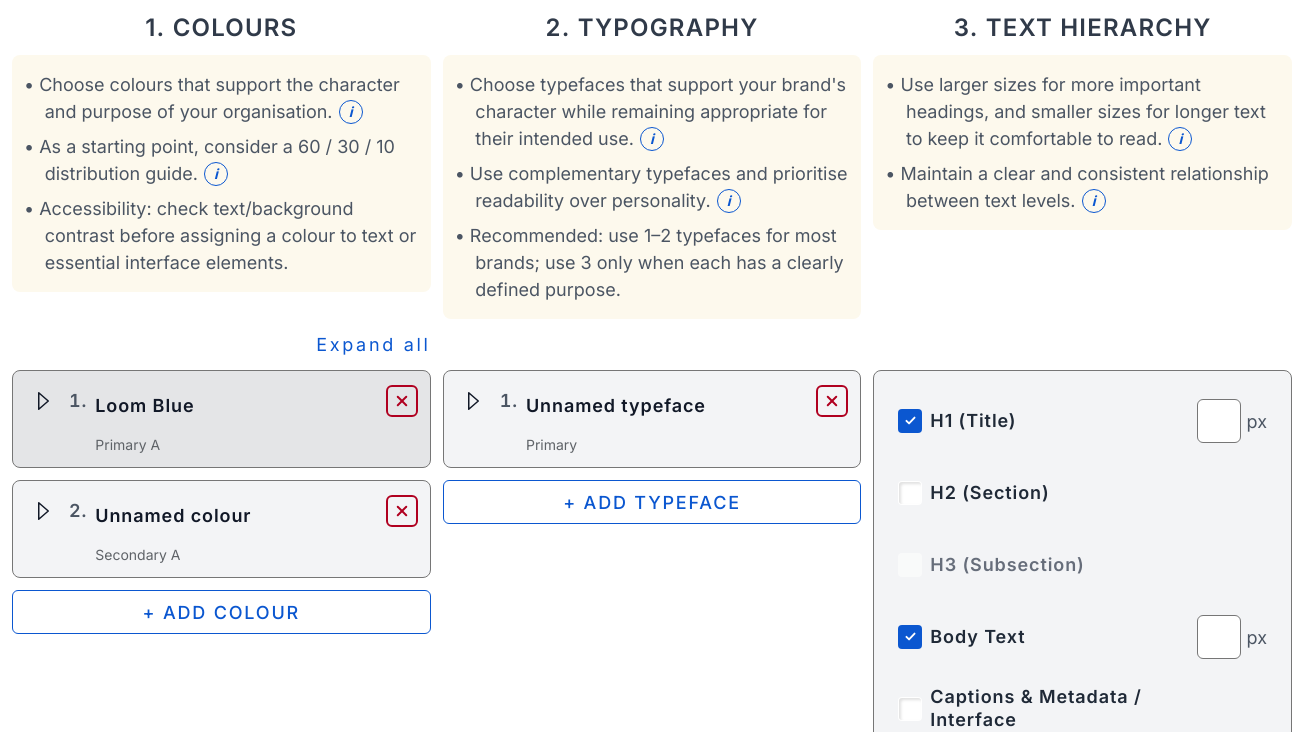
Test: BrandStyleEditor Text Hierarchy › keeps a size within the range its "i" states when the box is left, quietly
This screenshot has width=1292, height=732.
Type "9" into the field named "H1 (Title) size in pixels" at (1218, 421), box [1196,399,1240,443]
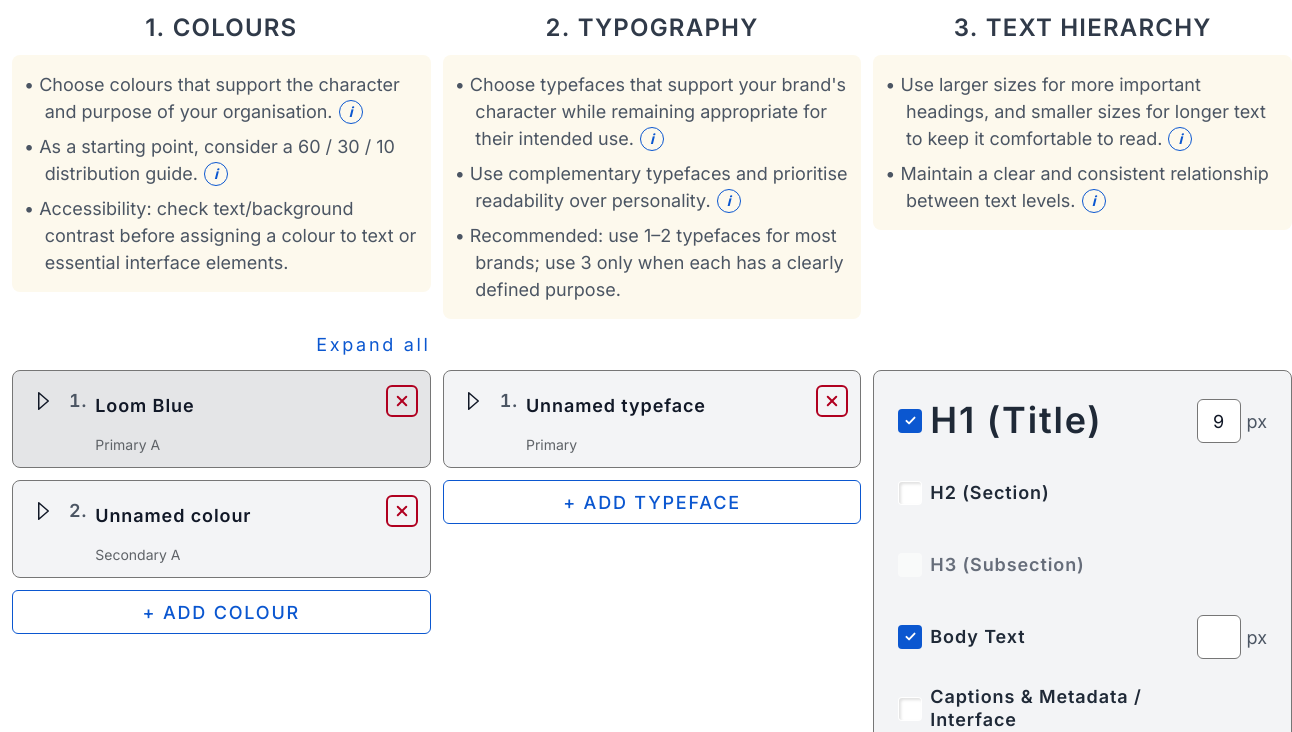
Replace the text in the field named "H1 (Title) size in pixels" with "90" at (1218, 421), box [1196,399,1240,443]
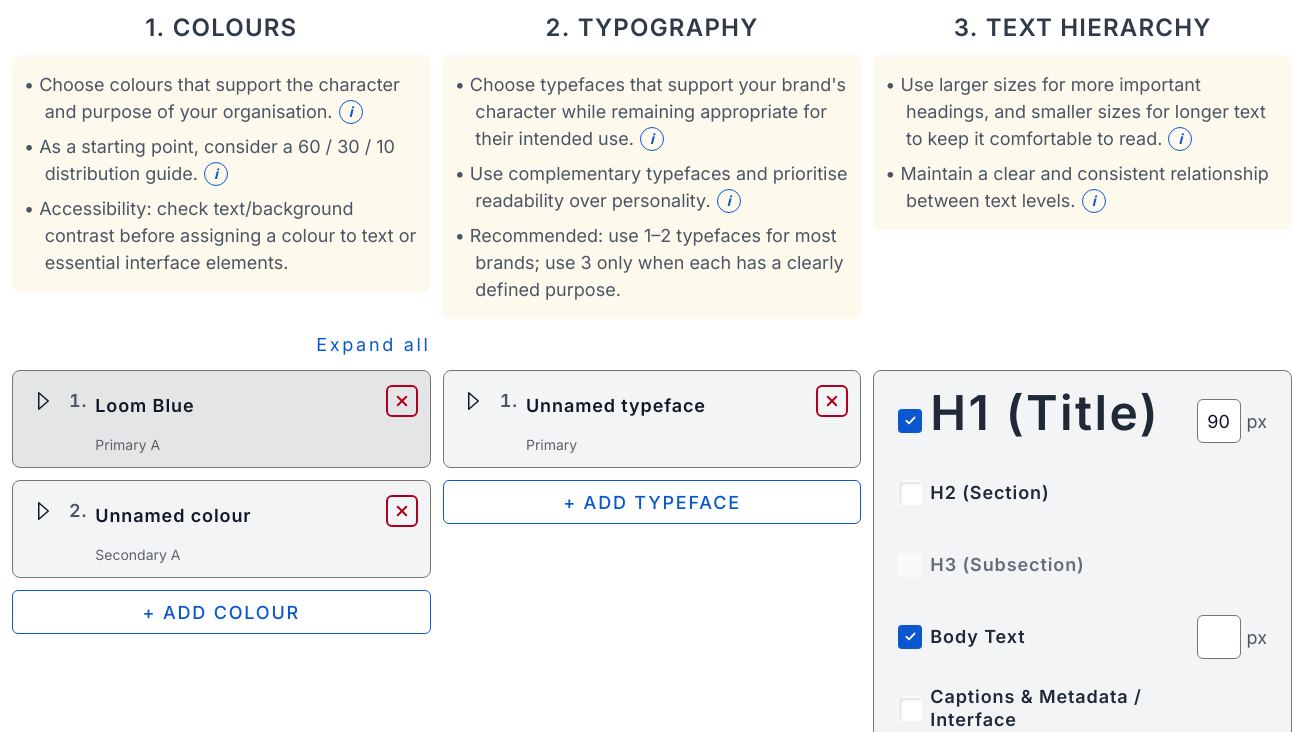
Leave the field named "H1 (Title) size in pixels", box [1196,399,1240,443]
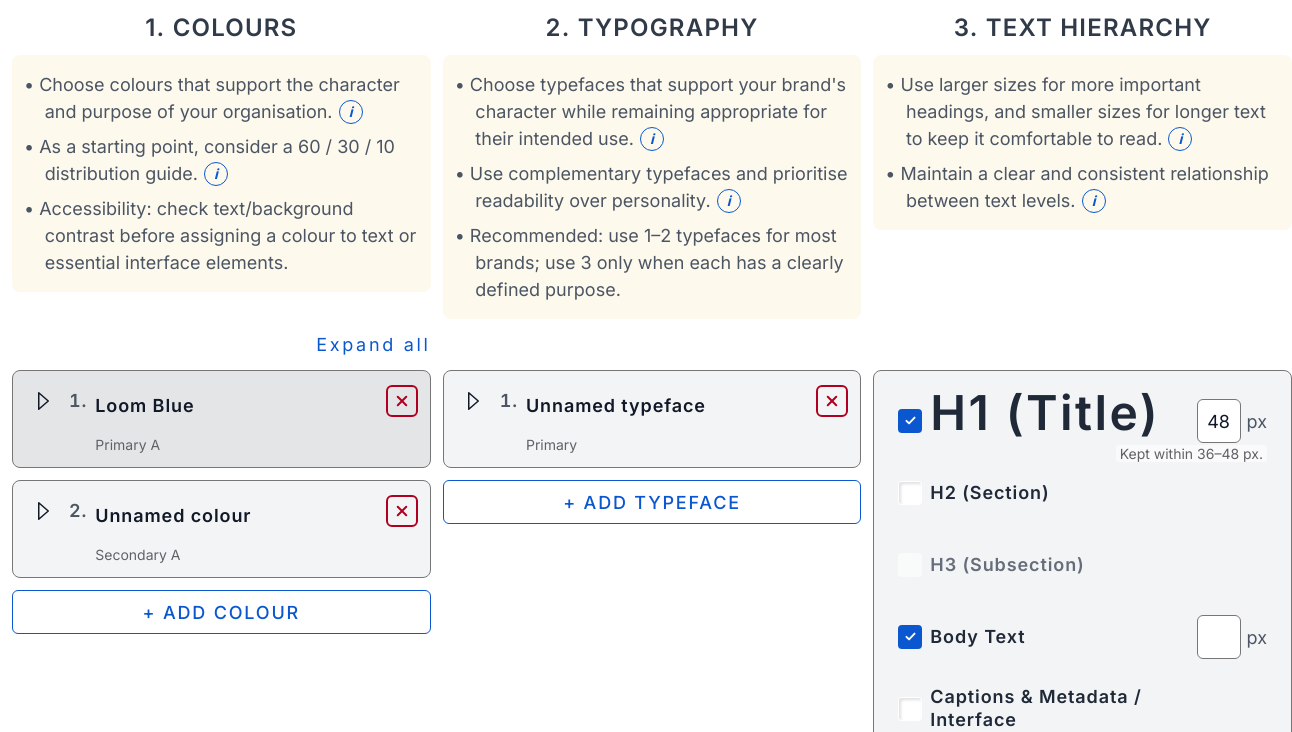
Expected: the field named "H1 (Title) size in pixels" holds "48"
Expected: the message reads "Kept within 36–48 px.", [1120,445,1263,462]
Replace the text in the field named "H1 (Title) size in pixels" with "1" at (1218, 421), box [1196,399,1240,443]
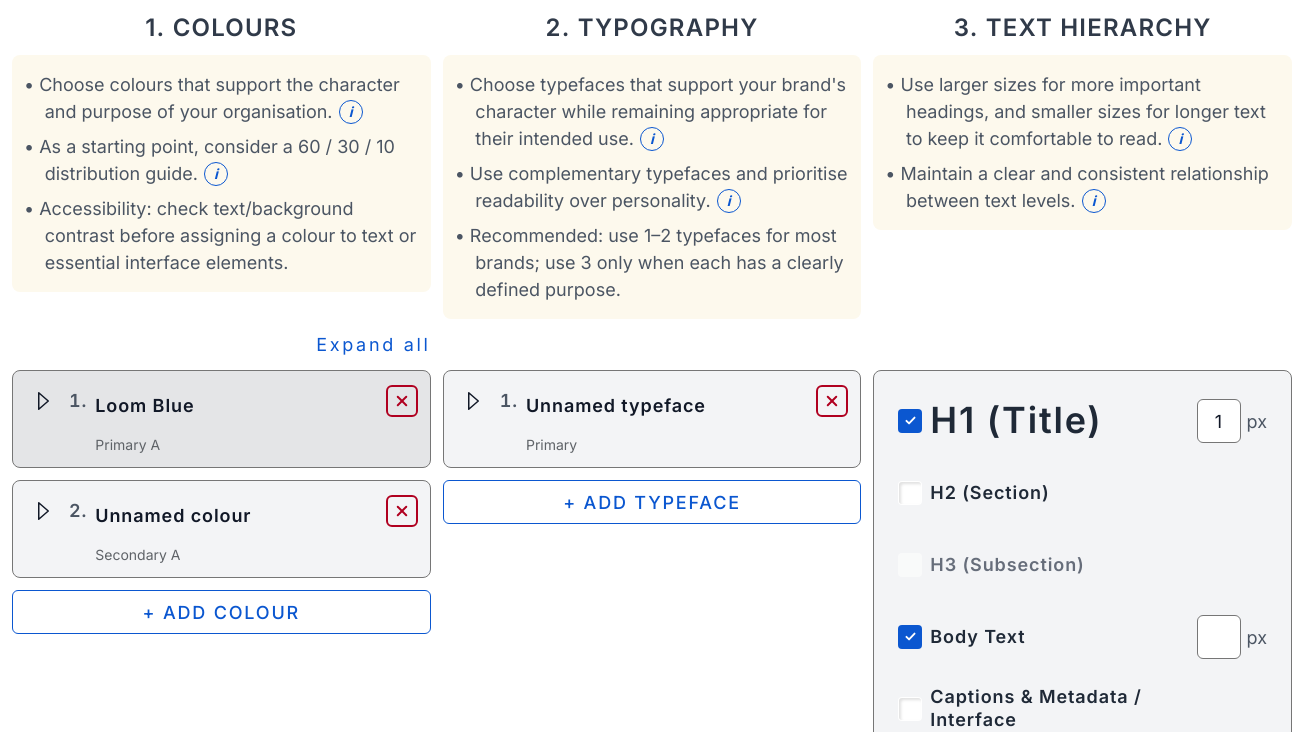
Replace the text in the field named "H1 (Title) size in pixels" with "12" at (1218, 421), box [1196,399,1240,443]
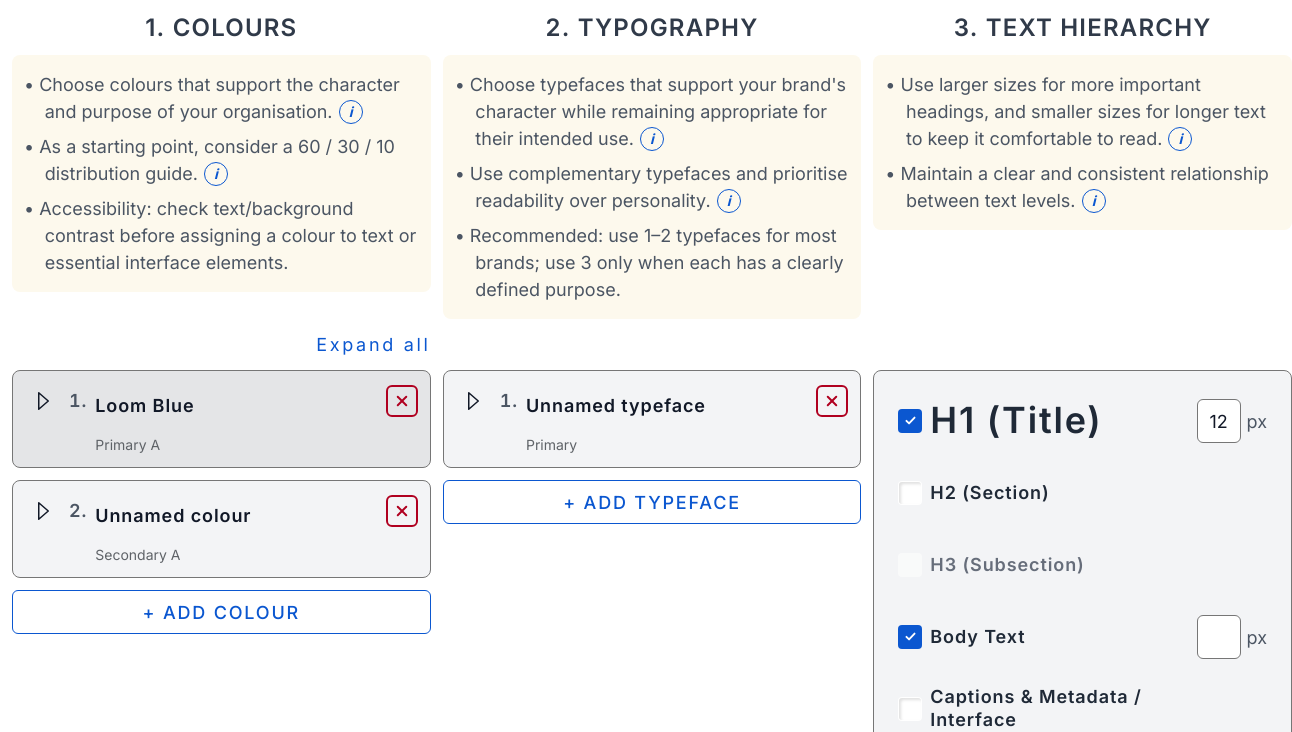
Leave the field named "H1 (Title) size in pixels", box [1196,399,1240,443]
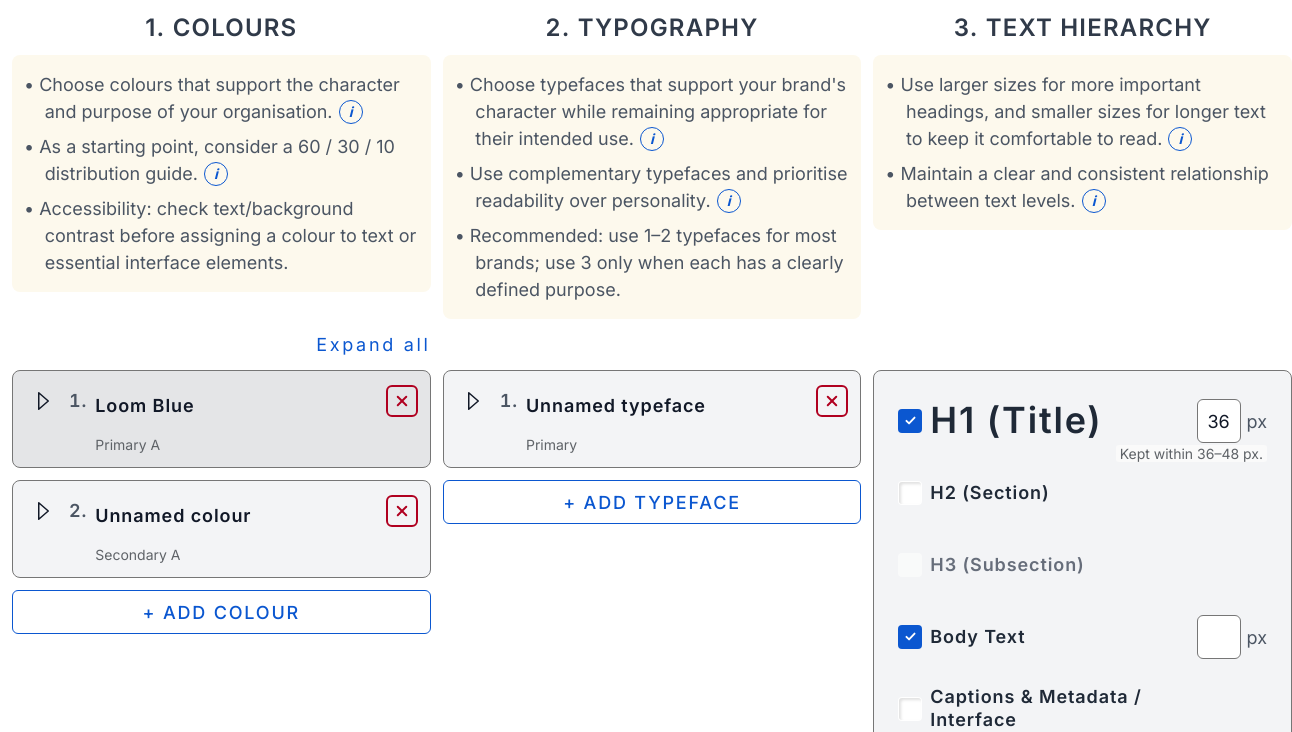
Expected: the field named "H1 (Title) size in pixels" holds "36", [1196,399,1240,443]
